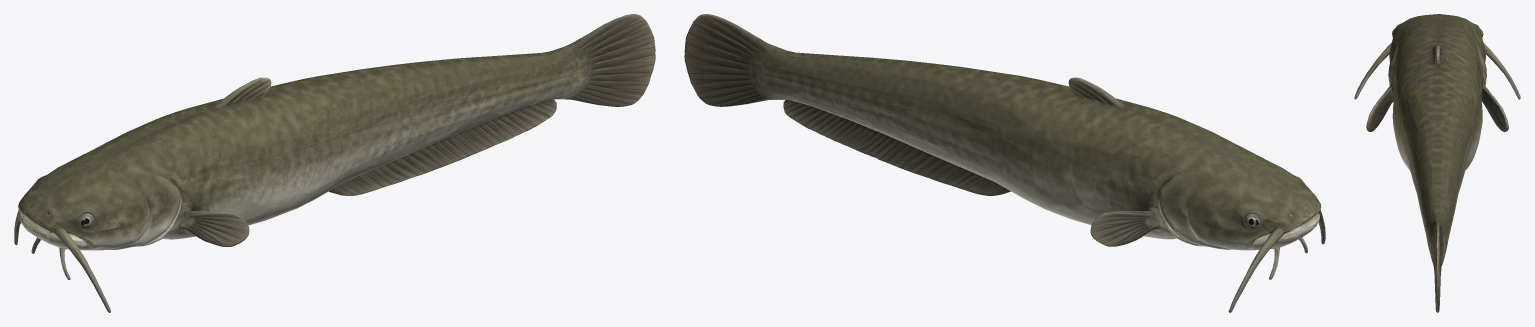
File: fishCatfish.glb
3 renders of one model, left to right at view 1: azimuth 30°, elevation 25°; view 2: azimuth 150°, elevation 25°; view 3: azimuth 270°, elevation 25°, orthographic. The views are drawn at different scales.
Visible parts, largest first — view 1: Mesh_0; view 2: Mesh_0; view 3: Mesh_0.
Boxes of the visible parts, left/top/right/bottom form: Mesh_0: left=14, top=14, right=655, bottom=312; Mesh_0: left=684, top=14, right=1325, bottom=312; Mesh_0: left=1354, top=14, right=1520, bottom=312.
Bounding box in the file's own units: 0.45 × 0.1042 × 0.1172.
1 material, 1 textured.
